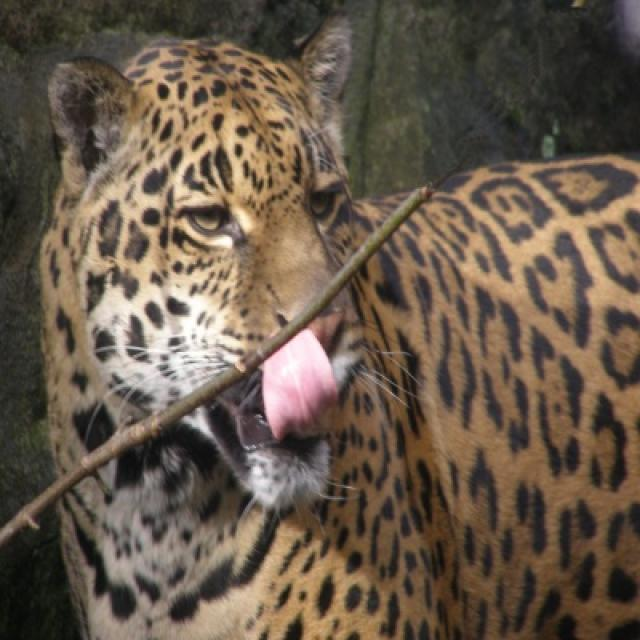Jaguar: (37, 38, 638, 638)
